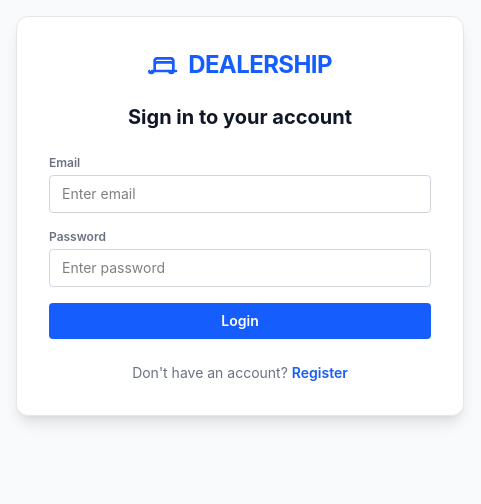
Test: Login Page › should display error message on login failure
The image size is (481, 504).
Type "wrong@example.com" into the field labelled "Email" at coordinates (240, 194), box [49, 175, 431, 213]
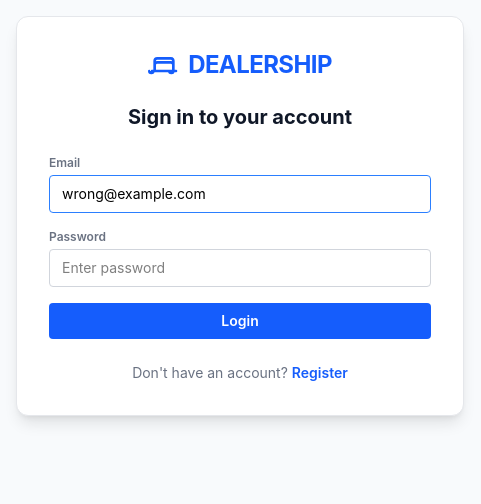
Type "wrongpass" into the password field labelled "Password" at coordinates (240, 268), box [49, 249, 431, 287]
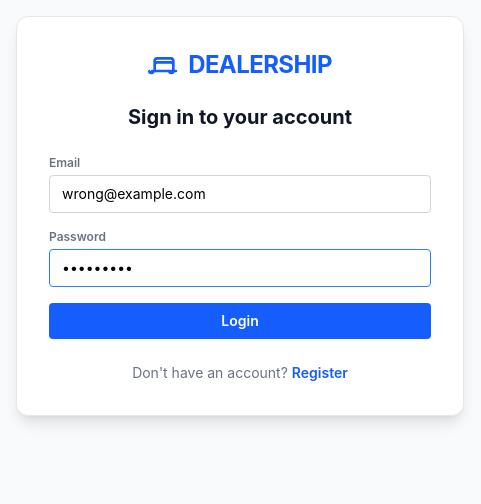
Click the button "Login" at coordinates (240, 321), box [49, 303, 431, 339]
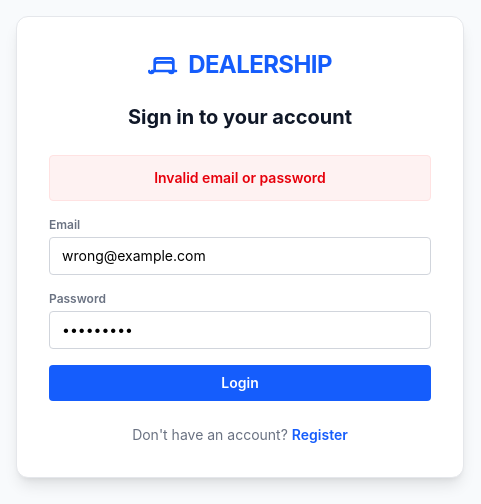
Check: the text "Invalid email or password" is shown, box [49, 155, 431, 201]
